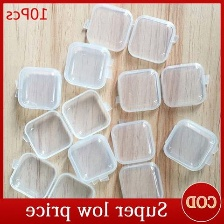plastic_box: (19, 85, 115, 164), (79, 3, 183, 66), (111, 58, 214, 117), (107, 114, 169, 197), (6, 149, 100, 198), (160, 115, 222, 174), (60, 38, 119, 93), (11, 63, 65, 114)
